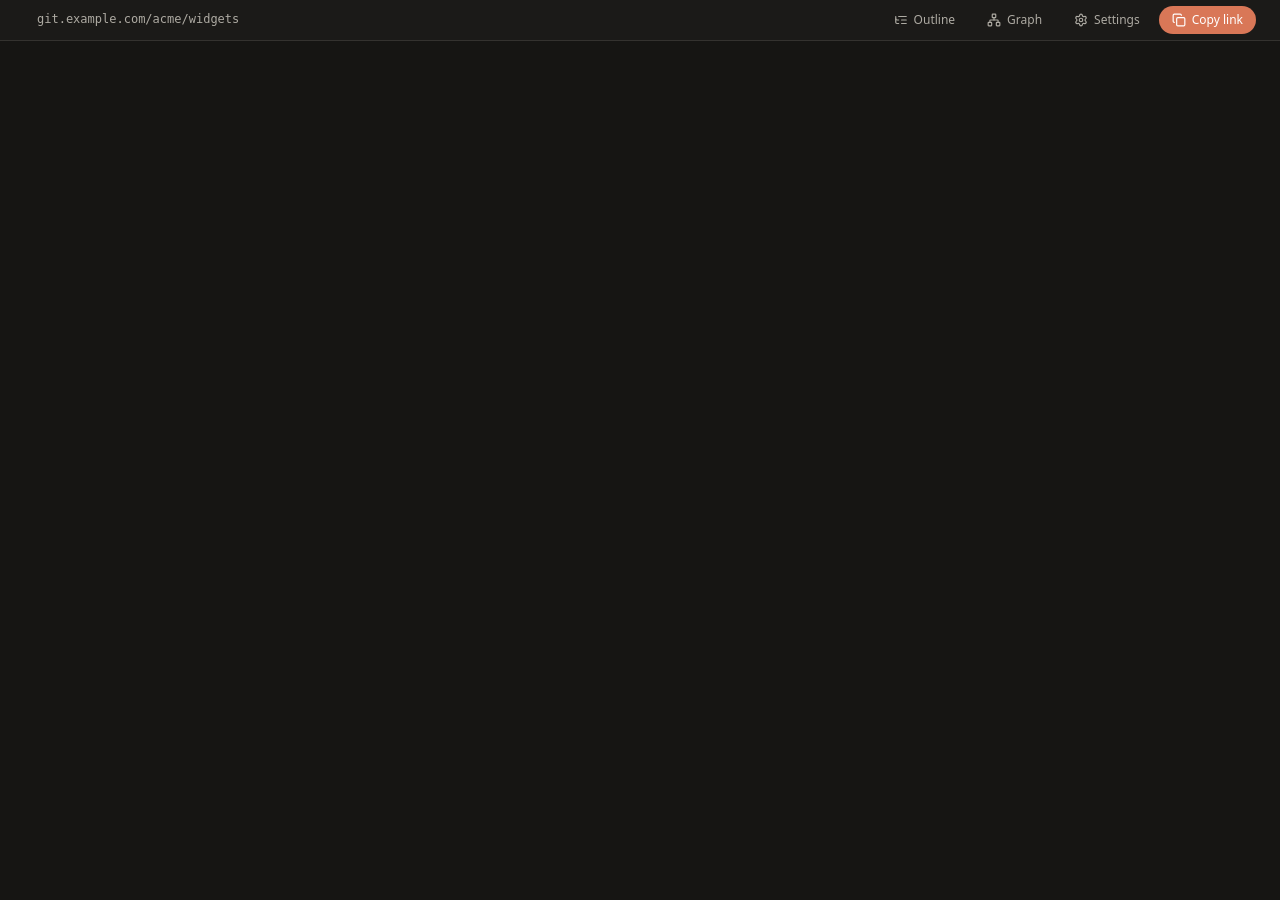
Test: WikiTopBar → settings › only mounts the dialog once the gear is clicked
Click the button with aria-label "wiki settings" at (1107, 20), box [1061,6,1153,34]
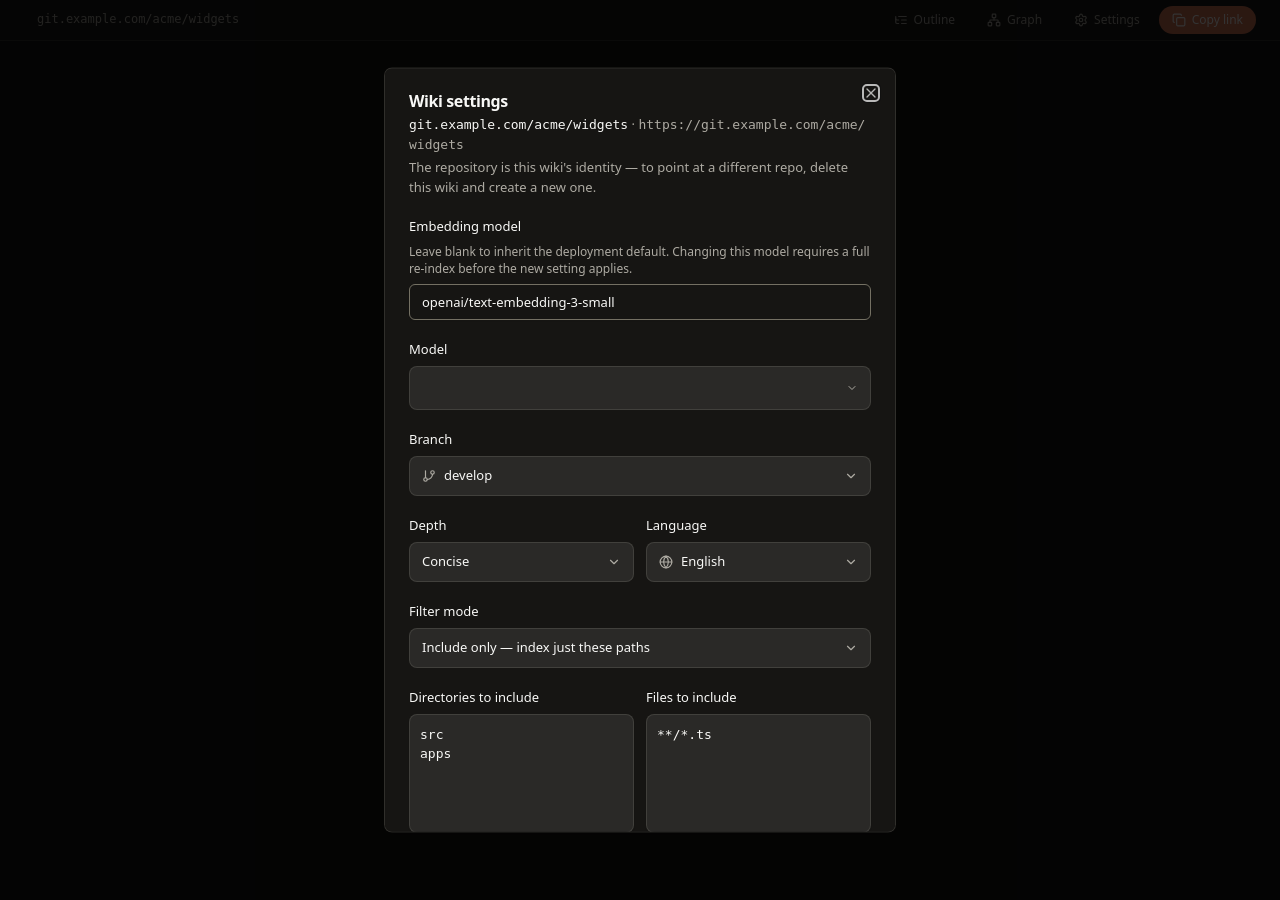
expect the heading "Wiki settings" is shown: met, box [409,90,508,112]
